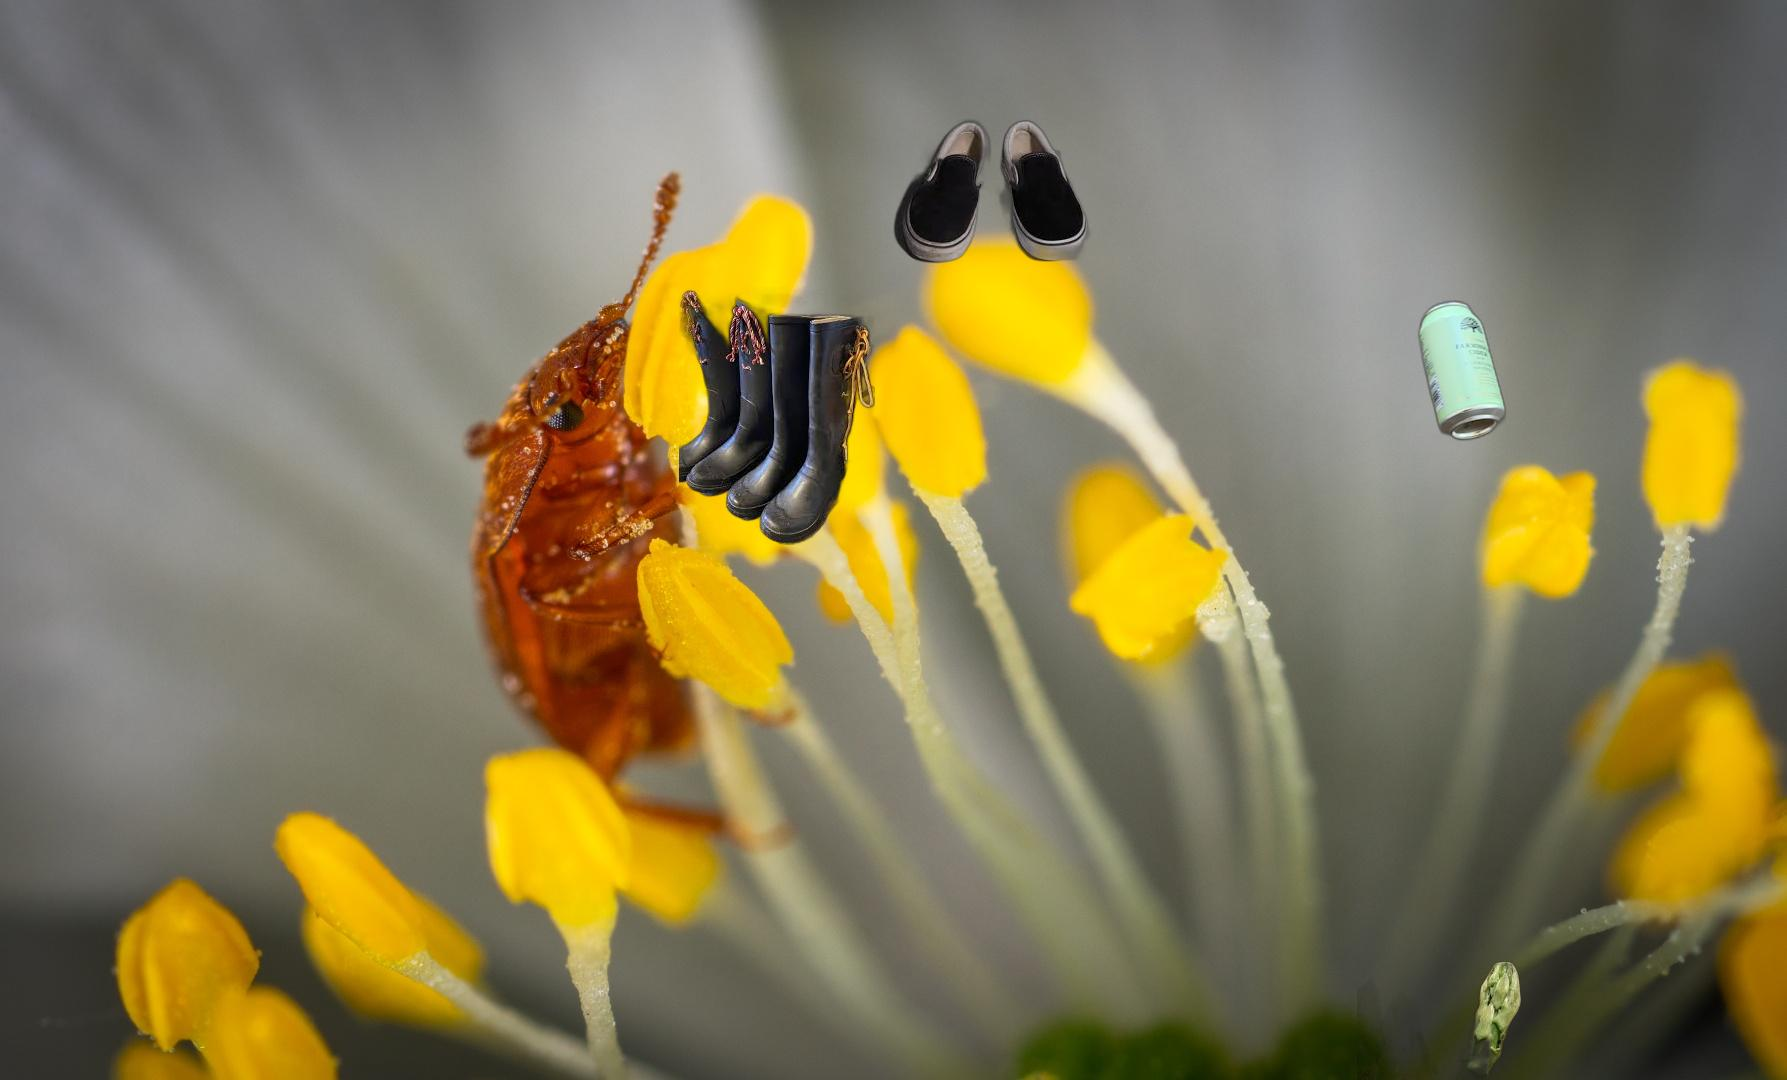biological: (1357, 950, 1523, 1080)
metal-cans: (1416, 295, 1510, 446)
shoes: (679, 287, 876, 545), (892, 114, 1093, 266)
